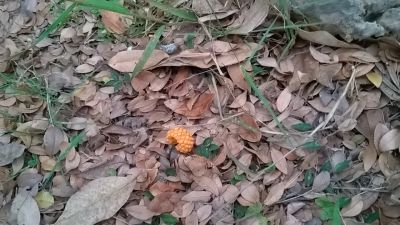eggs: (165, 126, 195, 154)
